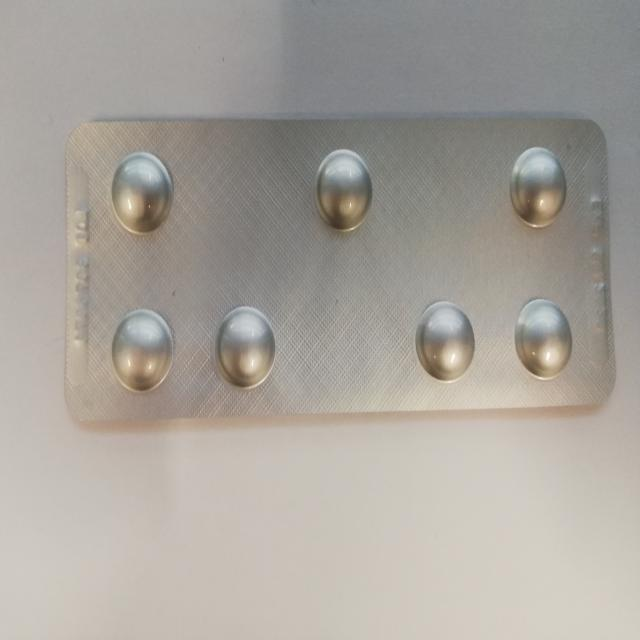Pill: (208, 294, 285, 396), (104, 142, 181, 240), (106, 300, 180, 398), (307, 143, 383, 235), (502, 139, 574, 231), (510, 287, 578, 383), (410, 293, 480, 385)
